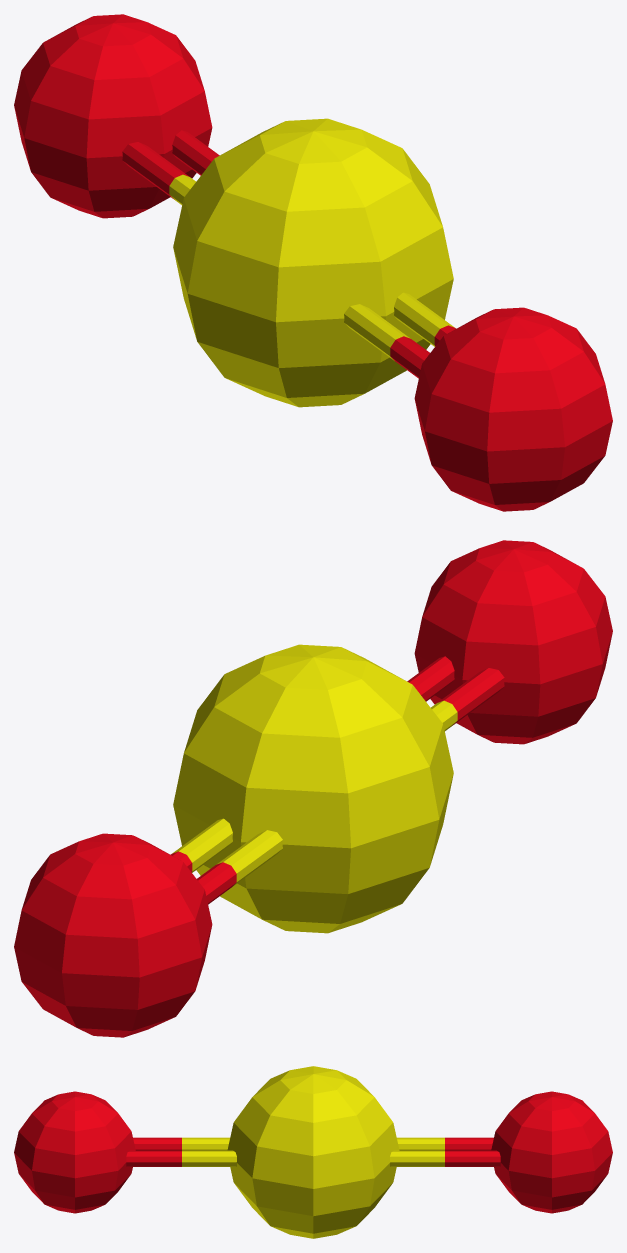
The model's file is sio2.glb.
The picture shows the model from 3 angles, top to bottom: view 1: azimuth 30°, elevation 25°; view 2: azimuth 150°, elevation 25°; view 3: azimuth 270°, elevation 25°; orthographic projection. The views are drawn at different scales.
Parts seen in each view (by area): view 1: Sphere.003; view 2: Sphere.003; view 3: Sphere.003.
Boxes of the visible parts, bbox=[...] form: Sphere.003: bbox=[14, 14, 612, 511]; Sphere.003: bbox=[14, 540, 612, 1037]; Sphere.003: bbox=[14, 1066, 612, 1238].
Size of the model in its own units: 2.83 by 2.83 by 9.8.
